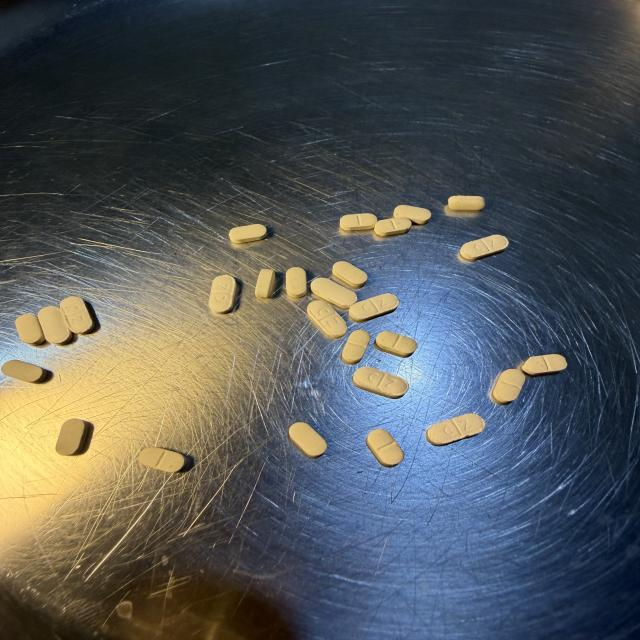pill: (426, 414, 485, 445), (353, 367, 408, 398), (307, 300, 347, 338), (366, 429, 404, 467), (311, 278, 357, 308), (349, 294, 398, 322), (289, 422, 326, 457), (38, 307, 72, 344), (460, 235, 508, 260), (61, 297, 93, 334), (139, 447, 186, 472), (56, 419, 88, 455), (492, 369, 525, 403), (375, 331, 417, 357), (209, 275, 236, 313), (0, 360, 46, 382), (341, 330, 370, 364), (522, 354, 567, 375), (333, 261, 367, 288), (16, 315, 45, 345), (229, 224, 267, 244), (394, 205, 431, 224), (374, 218, 411, 236), (286, 267, 307, 297), (340, 214, 377, 231), (256, 269, 275, 298), (448, 196, 485, 210)
